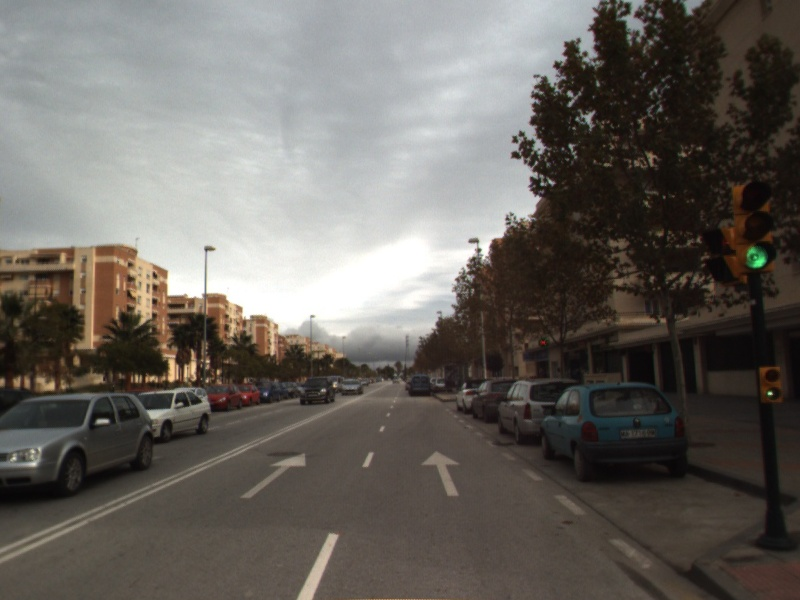STRAIGHT: (238, 451, 308, 500), (419, 448, 463, 498)
